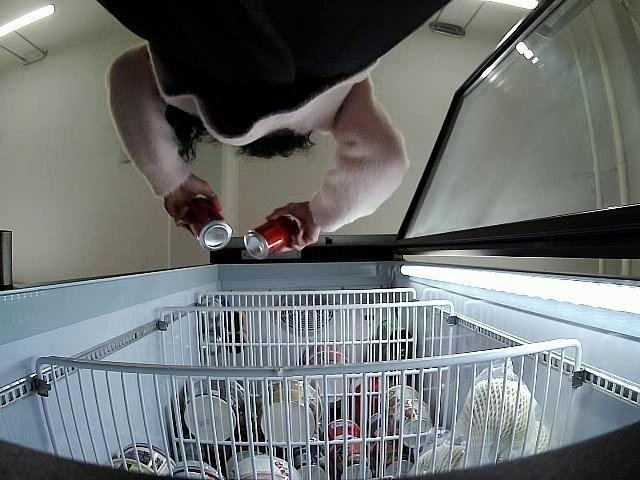11_cocaColaZero: (242, 214, 301, 262), (186, 196, 232, 251)
